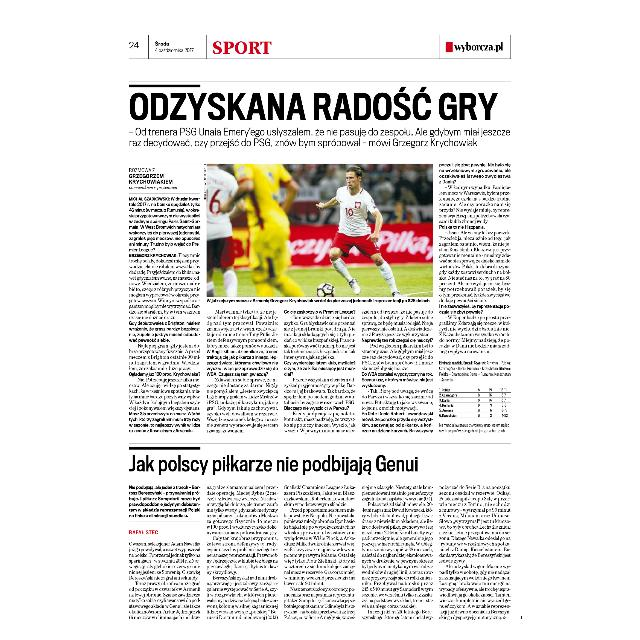article: (128, 82, 514, 436), (128, 445, 514, 623)
